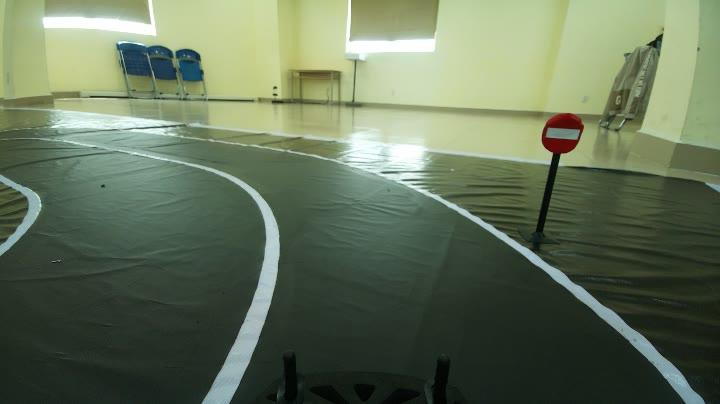no_entry: (532, 108, 601, 167)
